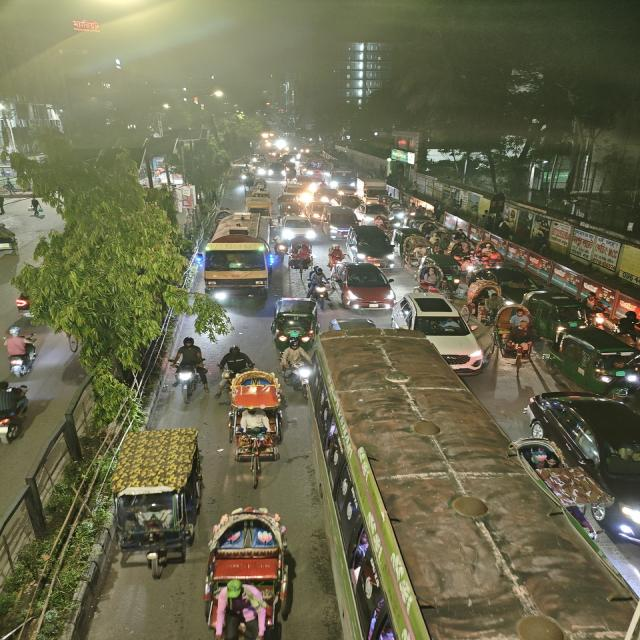bus: (309, 329, 538, 640), (326, 162, 357, 191), (298, 156, 327, 180)
car: (524, 388, 640, 549), (397, 290, 491, 371), (335, 261, 396, 313), (348, 225, 397, 268), (324, 206, 358, 240), (281, 213, 316, 242), (283, 177, 315, 197)
cng: (554, 326, 640, 388), (525, 290, 590, 332), (269, 297, 319, 347), (276, 195, 301, 217)
motorcycle: (164, 336, 208, 398), (0, 380, 33, 448), (1, 329, 41, 380), (278, 342, 316, 392), (306, 265, 332, 303), (12, 287, 34, 321), (327, 243, 347, 270)
pedestrian: (27, 197, 46, 219)
rickshaw: (109, 426, 208, 580), (200, 506, 300, 638), (224, 406, 285, 464), (491, 303, 540, 363), (223, 369, 283, 415), (399, 229, 430, 267), (287, 236, 315, 271), (0, 219, 22, 261)
truck: (200, 212, 277, 302), (358, 176, 388, 203)
